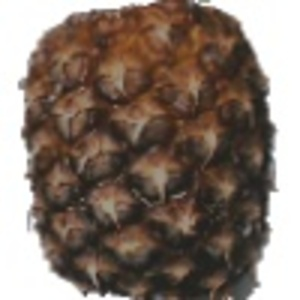abacaxi: (12, 6, 279, 299)
